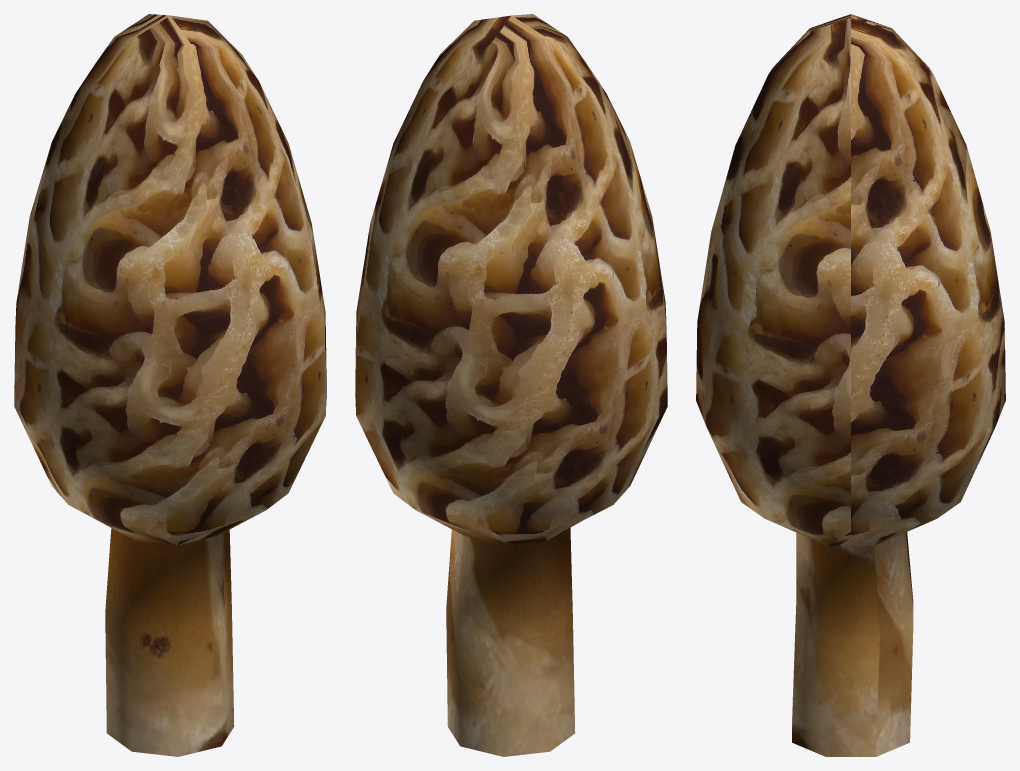
Rendered from Mushroom2.fbx.
3 views of the same model, side by side, from view 1: azimuth 30°, elevation 25°; view 2: azimuth 150°, elevation 25°; view 3: azimuth 270°, elevation 25° (orthographic).
Parts seen in each view (by area): view 1: Mushroom2; view 2: Mushroom2; view 3: Mushroom2.
Part boxes in pixels (box(x1,y1,x2,y2)): Mushroom2: box(14, 14, 326, 756); Mushroom2: box(355, 14, 667, 756); Mushroom2: box(696, 14, 1005, 756).
Bounding box in the file's own units: 6.03 × 15.32 × 6.03.
Materials: 1 (1 with a texture image).
